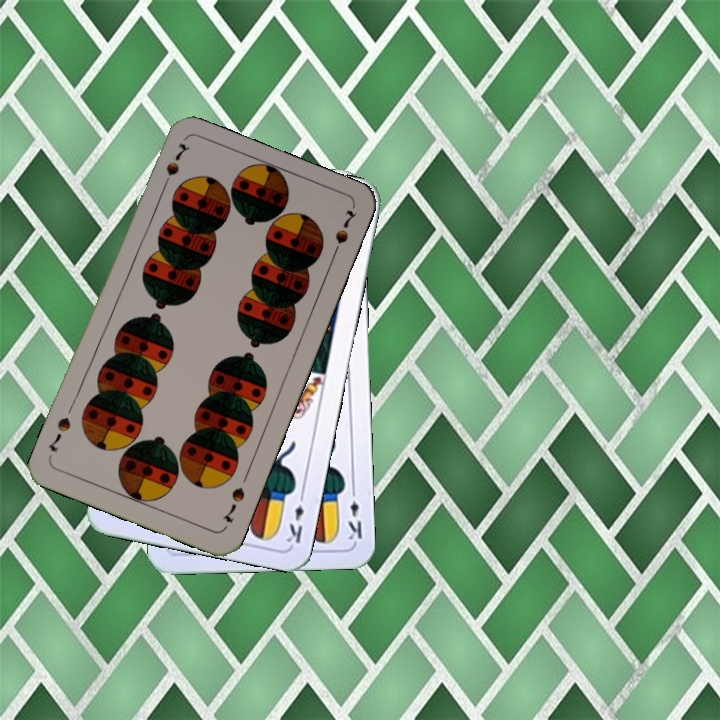EK: (282, 487, 308, 546), (344, 483, 365, 543)
S7: (218, 483, 248, 526), (157, 157, 182, 194)
